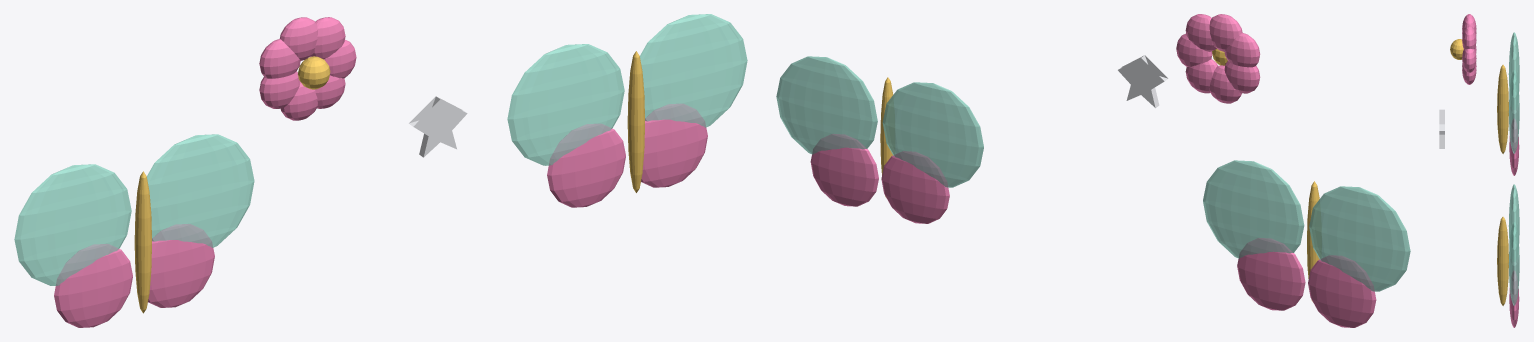
File: fairy.glb
3 views of the same model, side by side, from view 1: azimuth 30°, elevation 25°; view 2: azimuth 150°, elevation 25°; view 3: azimuth 270°, elevation 25° (orthographic). The views are drawn at different scales.
Visible parts, largest first — view 1: upper wing (×4), lower wing (×4), petal (×7), butterfly body (×2), fairy jewel, flower center; view 2: upper wing (×4), lower wing (×4), petal (×7), fairy jewel, butterfly body (×2); view 3: upper wing (×4), butterfly body (×2), petal (×4), lower wing (×2), fairy jewel, flower center.
Part boxes in pixels (x1,y1,x2,y2): upper wing (×4): (14, 14, 747, 285); lower wing (×4): (54, 104, 707, 327); petal (×7): (259, 17, 356, 120); butterfly body (×2): (134, 51, 644, 313); fairy jewel: (409, 96, 467, 157); flower center: (298, 56, 330, 89); upper wing (×4): (776, 56, 1410, 291); lower wing (×4): (810, 134, 1376, 327); petal (×7): (1176, 14, 1260, 103); fairy jewel: (1118, 55, 1168, 107); butterfly body (×2): (880, 77, 1319, 301); upper wing (×4): (1508, 32, 1519, 305); butterfly body (×2): (1497, 64, 1508, 305); petal (×4): (1462, 14, 1476, 84); lower wing (×2): (1509, 118, 1519, 327); fairy jewel: (1439, 109, 1444, 148); flower center: (1450, 39, 1463, 59).
Size of the model in its own units: 3.33 by 1.27 by 0.5016.
